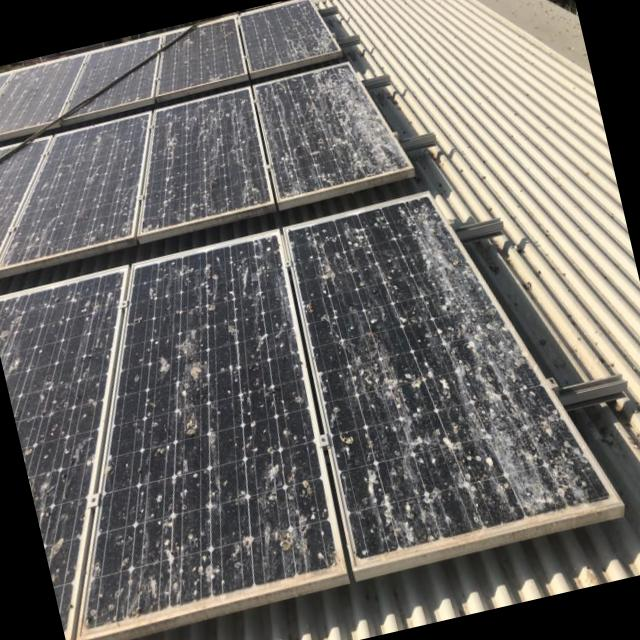faulty: (0, 184, 588, 627), (0, 64, 395, 270), (0, 2, 338, 147)
